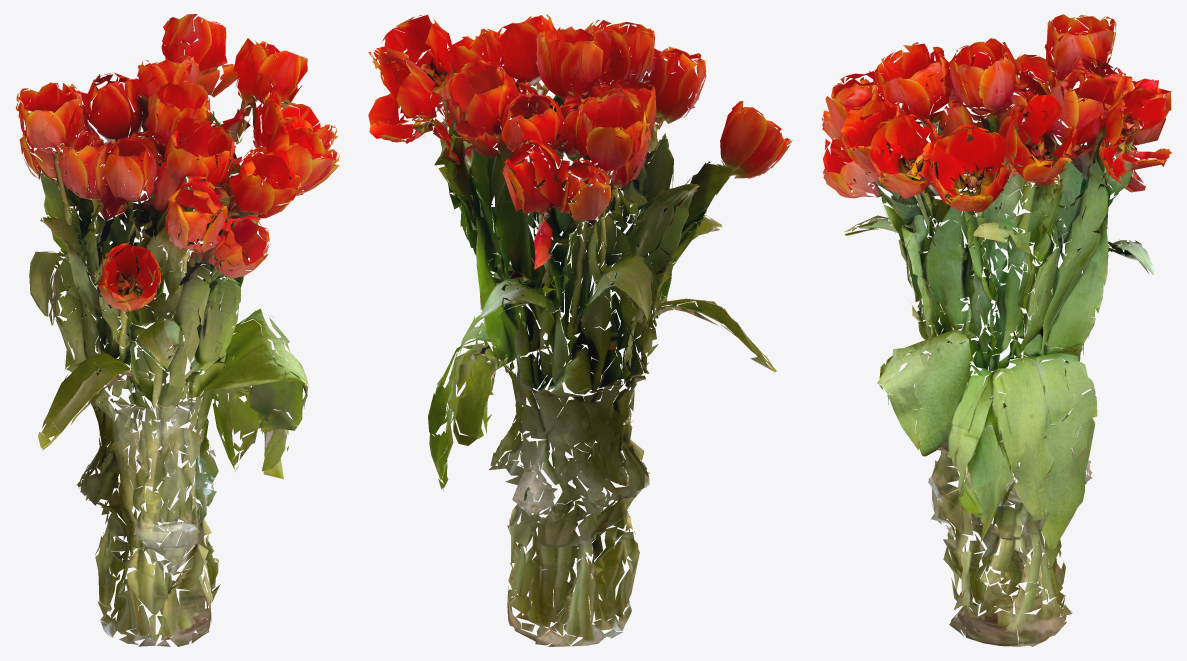
Rendered from flower.glb.
The picture shows the model from 3 angles, left to right: view 1: azimuth 30°, elevation 25°; view 2: azimuth 150°, elevation 25°; view 3: azimuth 270°, elevation 25°; orthographic projection. The views are drawn at different scales.
Visible parts, largest first — view 1: Object_4, Object_5; view 2: Object_4, Object_5; view 3: Object_4, Object_5.
Part boxes in pixels (x1=…): Object_4: x1=15, y1=14, x2=339, y2=646; Object_5: x1=16, y1=16, x2=339, y2=601; Object_4: x1=368, y1=14, x2=783, y2=646; Object_5: x1=375, y1=14, x2=792, y2=598; Object_4: x1=822, y1=16, x2=1171, y2=646; Object_5: x1=822, y1=14, x2=1171, y2=631.
Bounding box in the file's own units: 0.2068 × 0.3385 × 0.1837.
Materials: 1 (1 with a texture image).
